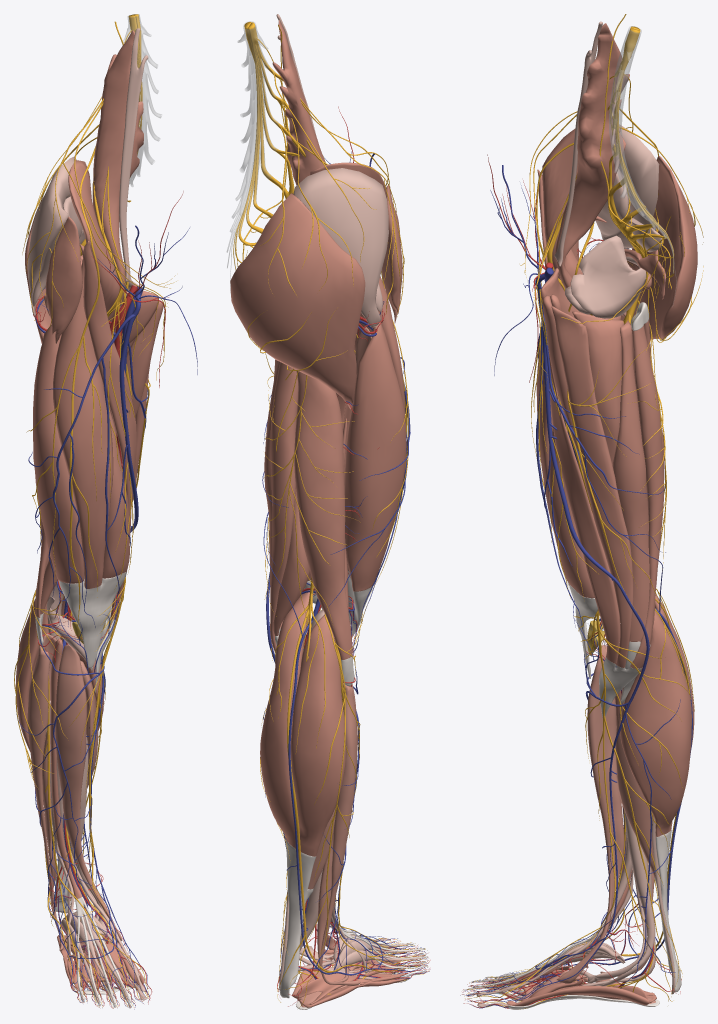
File: lower-limb.glb
3 views of the same model, side by side, from view 1: azimuth 30°, elevation 25°; view 2: azimuth 150°, elevation 25°; view 3: azimuth 270°, elevation 25° (orthographic). The views are drawn at different scales.
Visible parts, largest first — view 1: Rectus femoris.r, Vastus lateralis muscle.r, Psoas major.r, Tibialis anterior muscle.r, Sartorius muscle.r, Tensor fasciae latae.r, Fibularis longus muscle.r, Gluteus medius muscle.r, Quadriceps common tendon and patellar ligament.r, Iliacus muscle.r, Psoas minor.r, Vastus medialis muscle.r (+35 smaller); view 2: Gluteus maximus muscle.r, Vastus lateralis muscle.r, Long head of biceps femoris.r, Lateral head of gastrocnemius.r, Gluteus medius muscle.r, Medial head of gastrocnemius.r, Semitendinosus muscle.r, Arachnoid mater, Semimembranosus muscle.r, Psoas major.r, Fibularis longus muscle.r, Calcaneal tendon.r (+23 smaller); view 3: Medial head of gastrocnemius.r, Gracilis muscle.r, Psoas major.r, Semimembranosus muscle.r, Gluteus maximus muscle.r, Sartorius muscle.r, Semitendinosus muscle.r, Tibialis anterior muscle.r, Obturator internus.r, Adductor magnus.r, Arachnoid mater, Saphenous nerve (Medial crural cutaneous branches).r (+32 smaller).
Boxes of the visible parts, x1,y1,x2,y2 form: Rectus femoris.r: (53, 258, 113, 588); Vastus lateralis muscle.r: (33, 324, 84, 583); Psoas major.r: (92, 30, 143, 320); Tibialis anterior muscle.r: (55, 644, 122, 942); Sartorius muscle.r: (80, 241, 136, 619); Tensor fasciae latae.r: (45, 217, 82, 343); Fibularis longus muscle.r: (27, 645, 103, 948); Gluteus medius muscle.r: (27, 156, 76, 317); Quadriceps common tendon and patellar ligament.r: (58, 572, 126, 667); Iliacus muscle.r: (68, 160, 119, 314); Psoas minor.r: (119, 28, 148, 282); Vastus medialis muscle.r: (102, 410, 129, 578); Gluteus maximus muscle.r: (230, 193, 365, 409); Vastus lateralis muscle.r: (344, 322, 406, 591); Long head of biceps femoris.r: (294, 371, 352, 659); Lateral head of gastrocnemius.r: (290, 615, 345, 856); Gluteus medius muscle.r: (293, 168, 388, 327); Medial head of gastrocnemius.r: (260, 590, 309, 848); Semitendinosus muscle.r: (270, 362, 298, 652); Arachnoid mater: (226, 21, 278, 288); Semimembranosus muscle.r: (264, 361, 309, 635); Psoas major.r: (272, 20, 325, 185); Fibularis longus muscle.r: (321, 683, 356, 982); Calcaneal tendon.r: (280, 839, 316, 998); Medial head of gastrocnemius.r: (620, 611, 691, 836); Gracilis muscle.r: (551, 306, 633, 667); Psoas major.r: (555, 23, 631, 288); Semimembranosus muscle.r: (612, 319, 657, 641); Gluteus maximus muscle.r: (620, 156, 697, 339); Sartorius muscle.r: (537, 169, 620, 663); Semitendinosus muscle.r: (630, 325, 664, 668); Tibialis anterior muscle.r: (556, 644, 624, 983); Obturator internus.r: (570, 235, 648, 318); Adductor magnus.r: (572, 311, 624, 495); Arachnoid mater: (609, 26, 676, 306); Saphenous nerve (Medial crural cutaneous branches).r: (571, 609, 690, 977).
Bounding box in the file's own units: 0.1859 × 1.15 × 0.2504.
